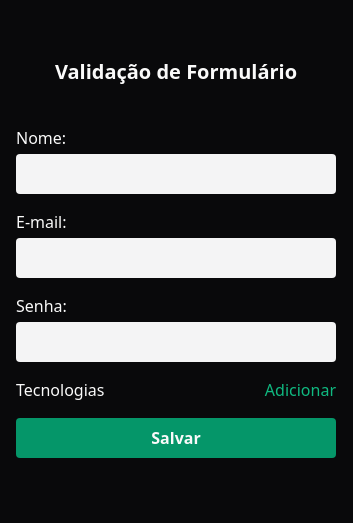
Test: App Component test › should validate form on submit
Click the button "Salvar": (176, 438) [16,418,336,458]
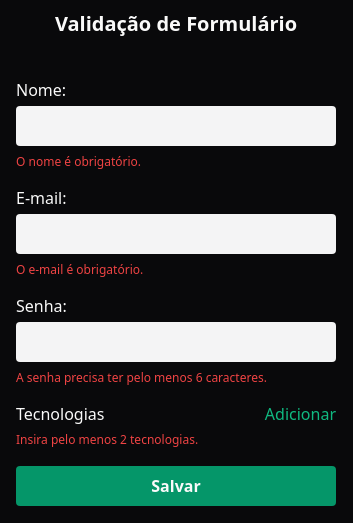
Now the text "O nome é obrigatório." is shown 2 times, box [16,153,141,170]; [16,261,143,278]
Now the text "A senha precisa ter pelo menos 6 caracteres." is shown 2 times, box [16,369,267,386]; [16,431,198,448]
